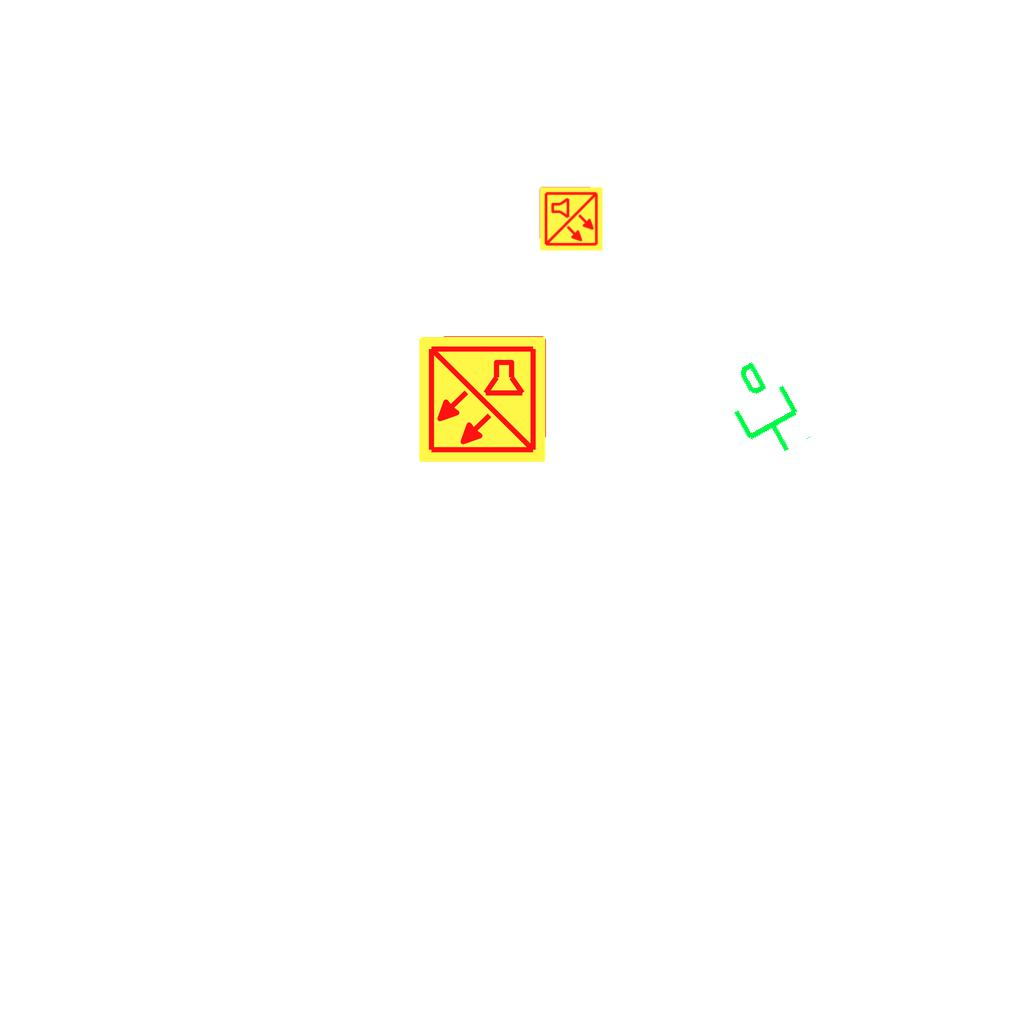Datenanschluss_einfach: (708, 349, 817, 471)
OKW_Multisensormelder_(Kombination_optischer_Rauch-Kahlenmonoxid_Waerme-Melder): (416, 333, 548, 465), (538, 186, 604, 252)
